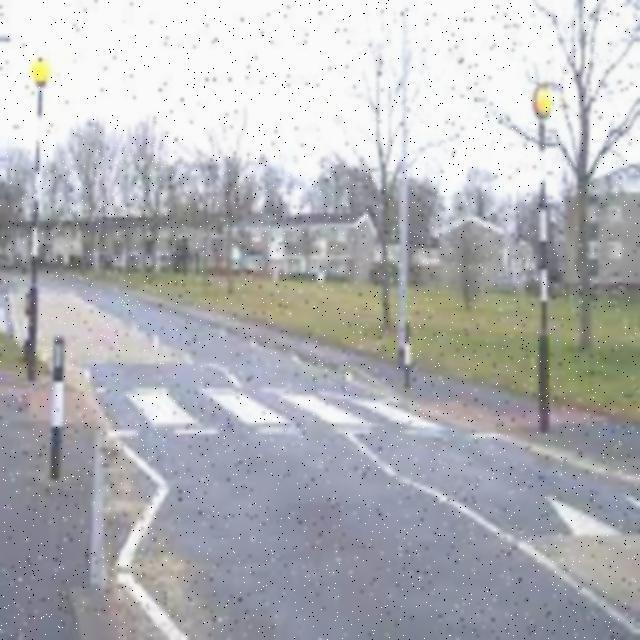Pedestrian crosswalk: (96, 376, 468, 442)
